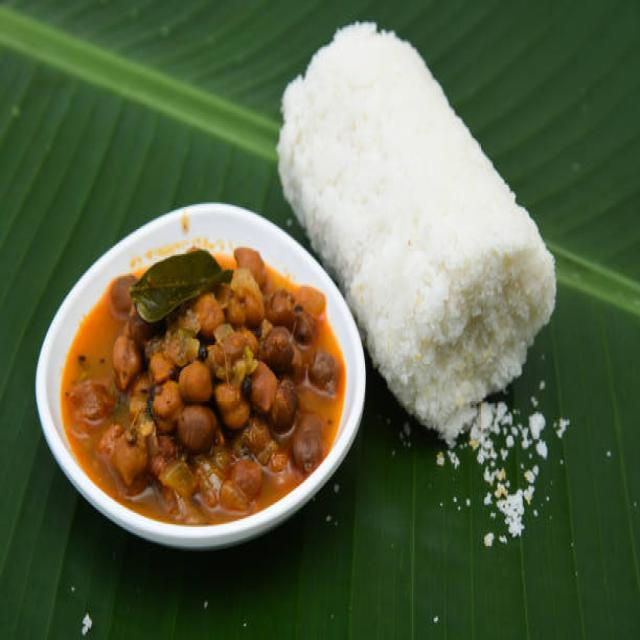CURRY: (57, 245, 349, 522)
PUTTU: (276, 18, 561, 443)
